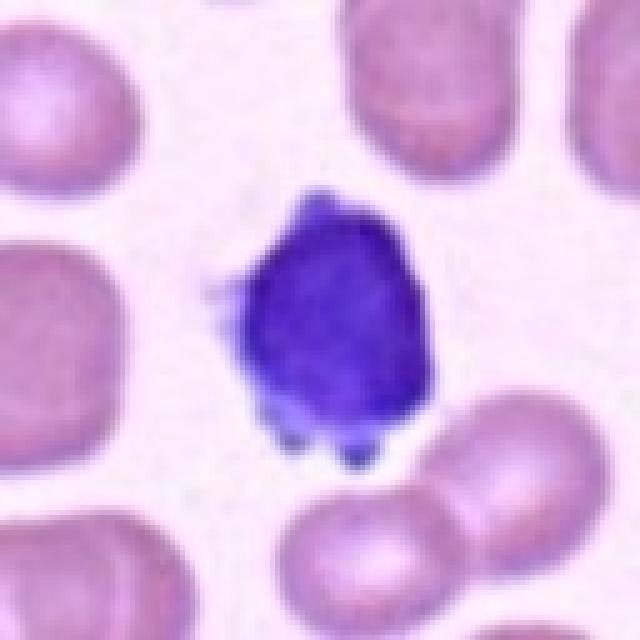lympho: (209, 176, 451, 475)
